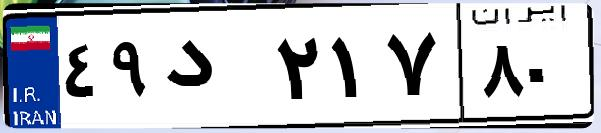0: (525, 38, 570, 115)
1: (330, 28, 385, 110)
2: (270, 28, 330, 110)
4: (57, 26, 110, 100)
7: (385, 28, 445, 110)
8: (475, 38, 525, 113)
9: (110, 28, 158, 98)
د: (158, 20, 270, 120)
